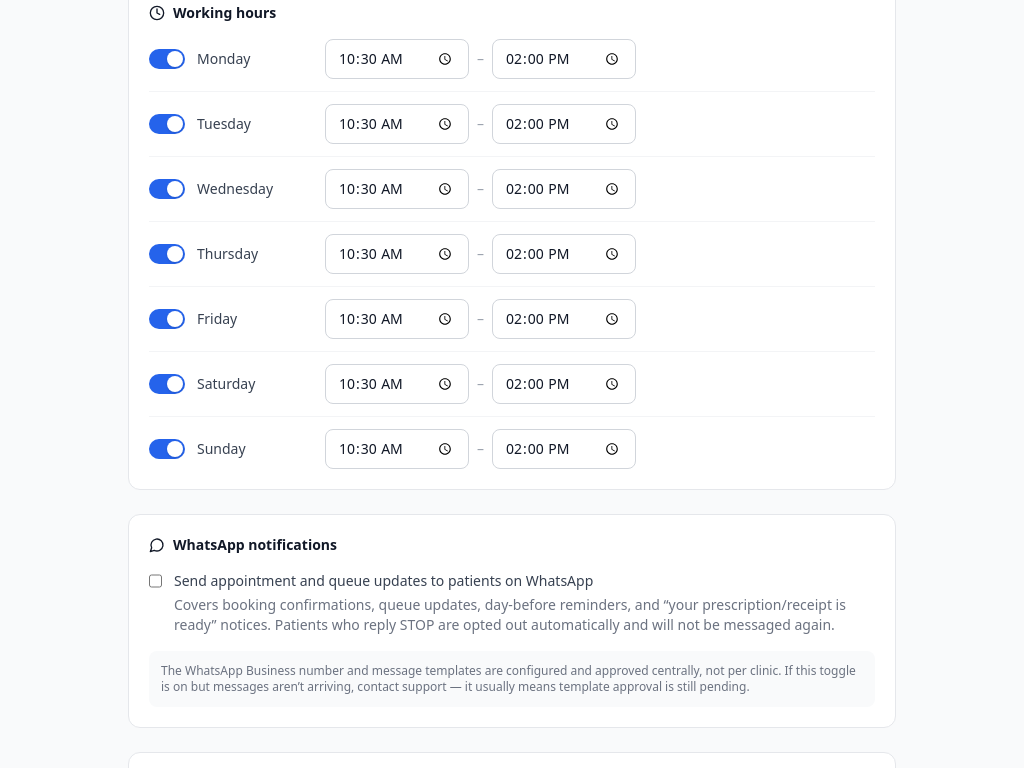
Test case: Clinic Settings - working hours › keeps a day's hours when it is closed and reopened
(page scrolled)
Click the switch labelled "Saturday". click: [202, 384]
box: [149,374,255,394]
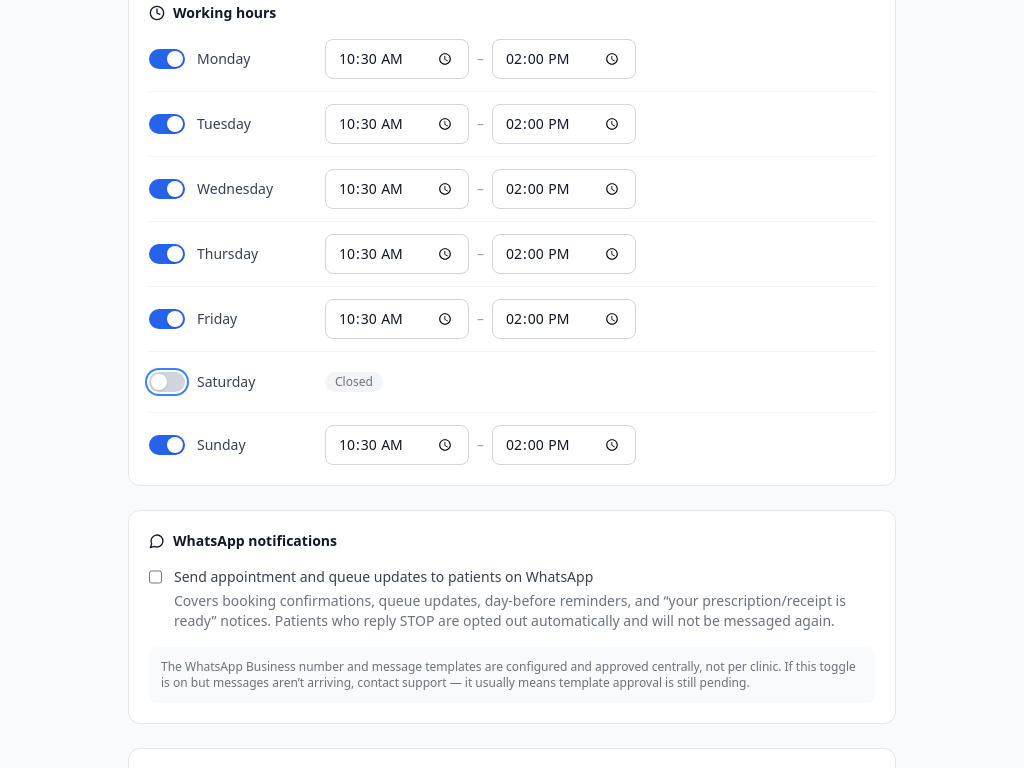
Click the switch labelled "Saturday". click: [202, 382]
box: [149,372,255,392]
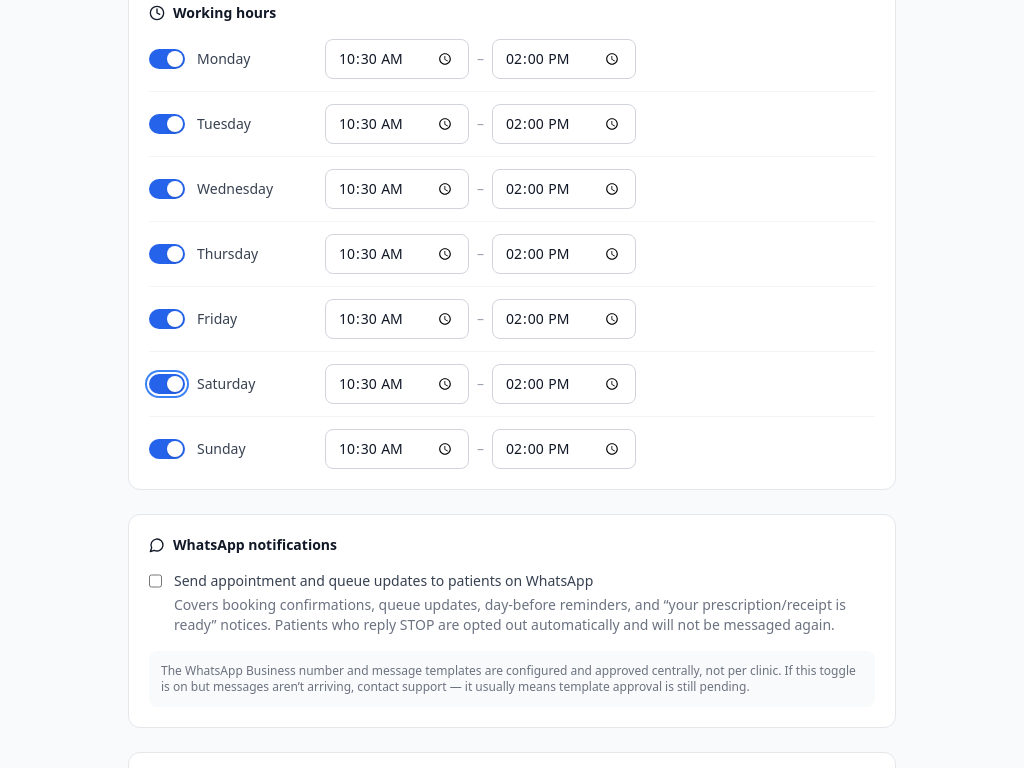
Result: the time field named "Saturday opening time" holds "10:30" at [325,364,469,404]
Result: the time field named "Saturday closing time" holds "14:00" at [492,364,636,404]
